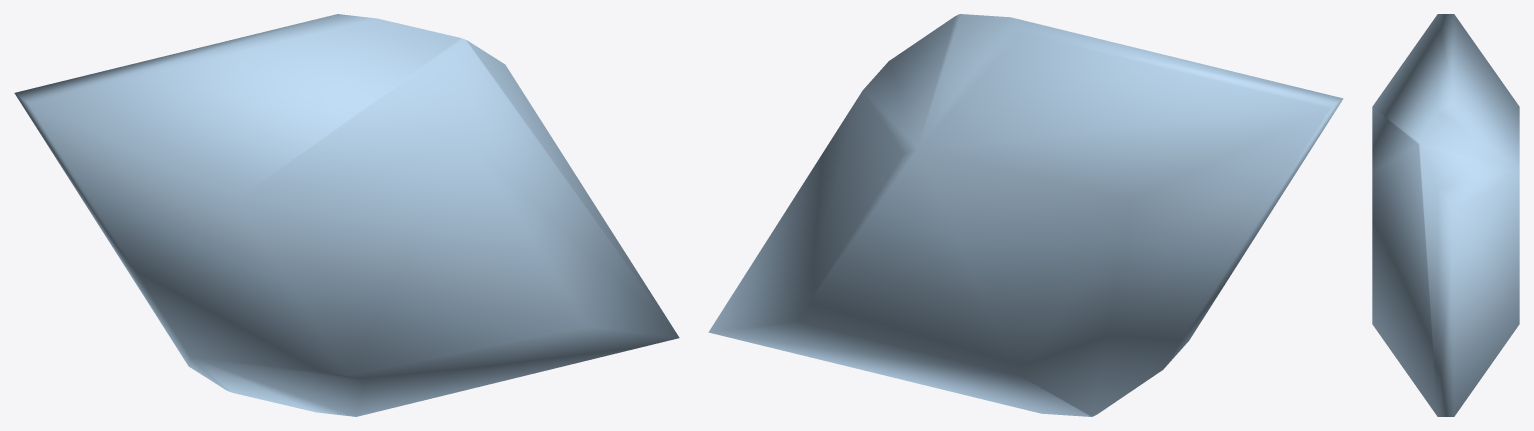
File: corundum.glb
3 views of the same model, side by side, from view 1: azimuth 30°, elevation 25°; view 2: azimuth 150°, elevation 25°; view 3: azimuth 270°, elevation 25° (orthographic). The views are drawn at different scales.
Parts seen in each view (by area): view 1: corundum; view 2: corundum; view 3: corundum.
Boxes of the visible parts, bbox=[...] form: corundum: bbox=[14, 14, 679, 416]; corundum: bbox=[708, 14, 1343, 416]; corundum: bbox=[1372, 14, 1519, 416].
Bounding box in the file's own units: 3.46 × 2 × 1.2.
